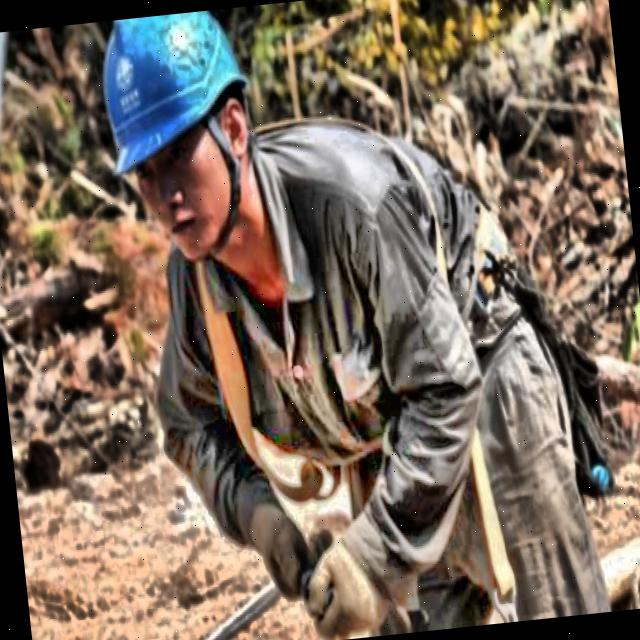helmet: (90, 5, 284, 291)
